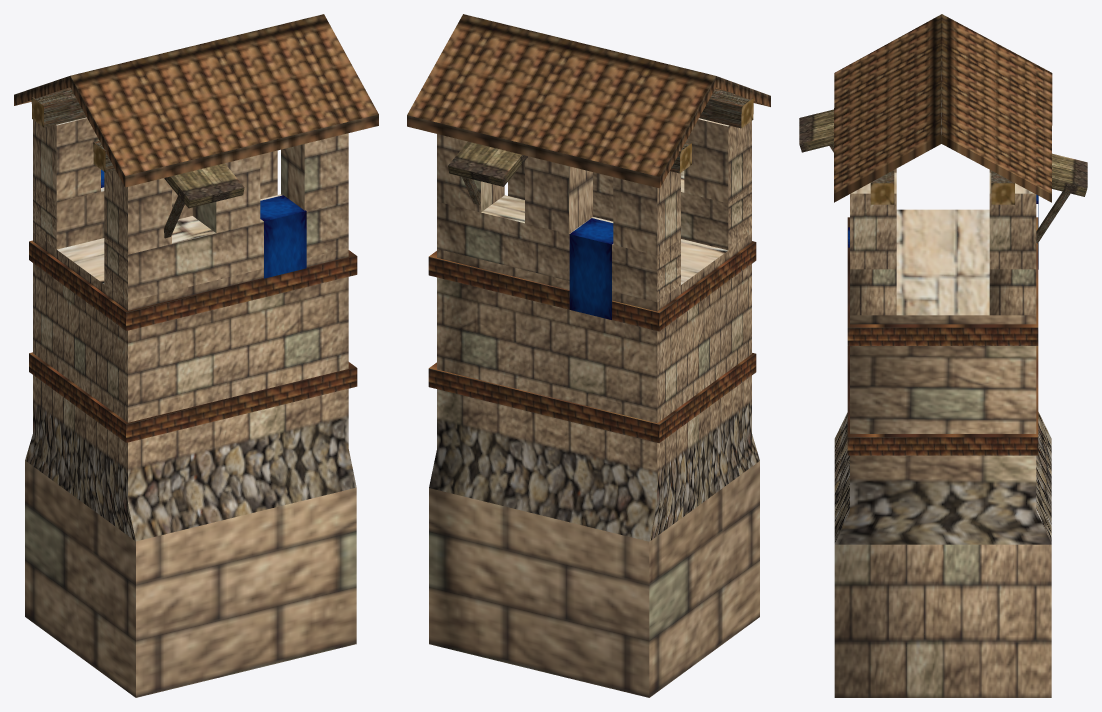
Rendered from wall_short.dae.
3 renders of one model, left to right at view 1: azimuth 30°, elevation 25°; view 2: azimuth 150°, elevation 25°; view 3: azimuth 270°, elevation 25°, orthographic. The views are drawn at different scales.
Parts seen in each view (by area): view 1: wall_short; view 2: wall_short; view 3: wall_short.
Boxes of the visible parts, x1,y1,x2,y2 form: wall_short: [14, 14, 378, 697]; wall_short: [407, 14, 770, 697]; wall_short: [799, 14, 1087, 697].
Size of the model in its own units: 11.15 by 11.12 by 24.38.
